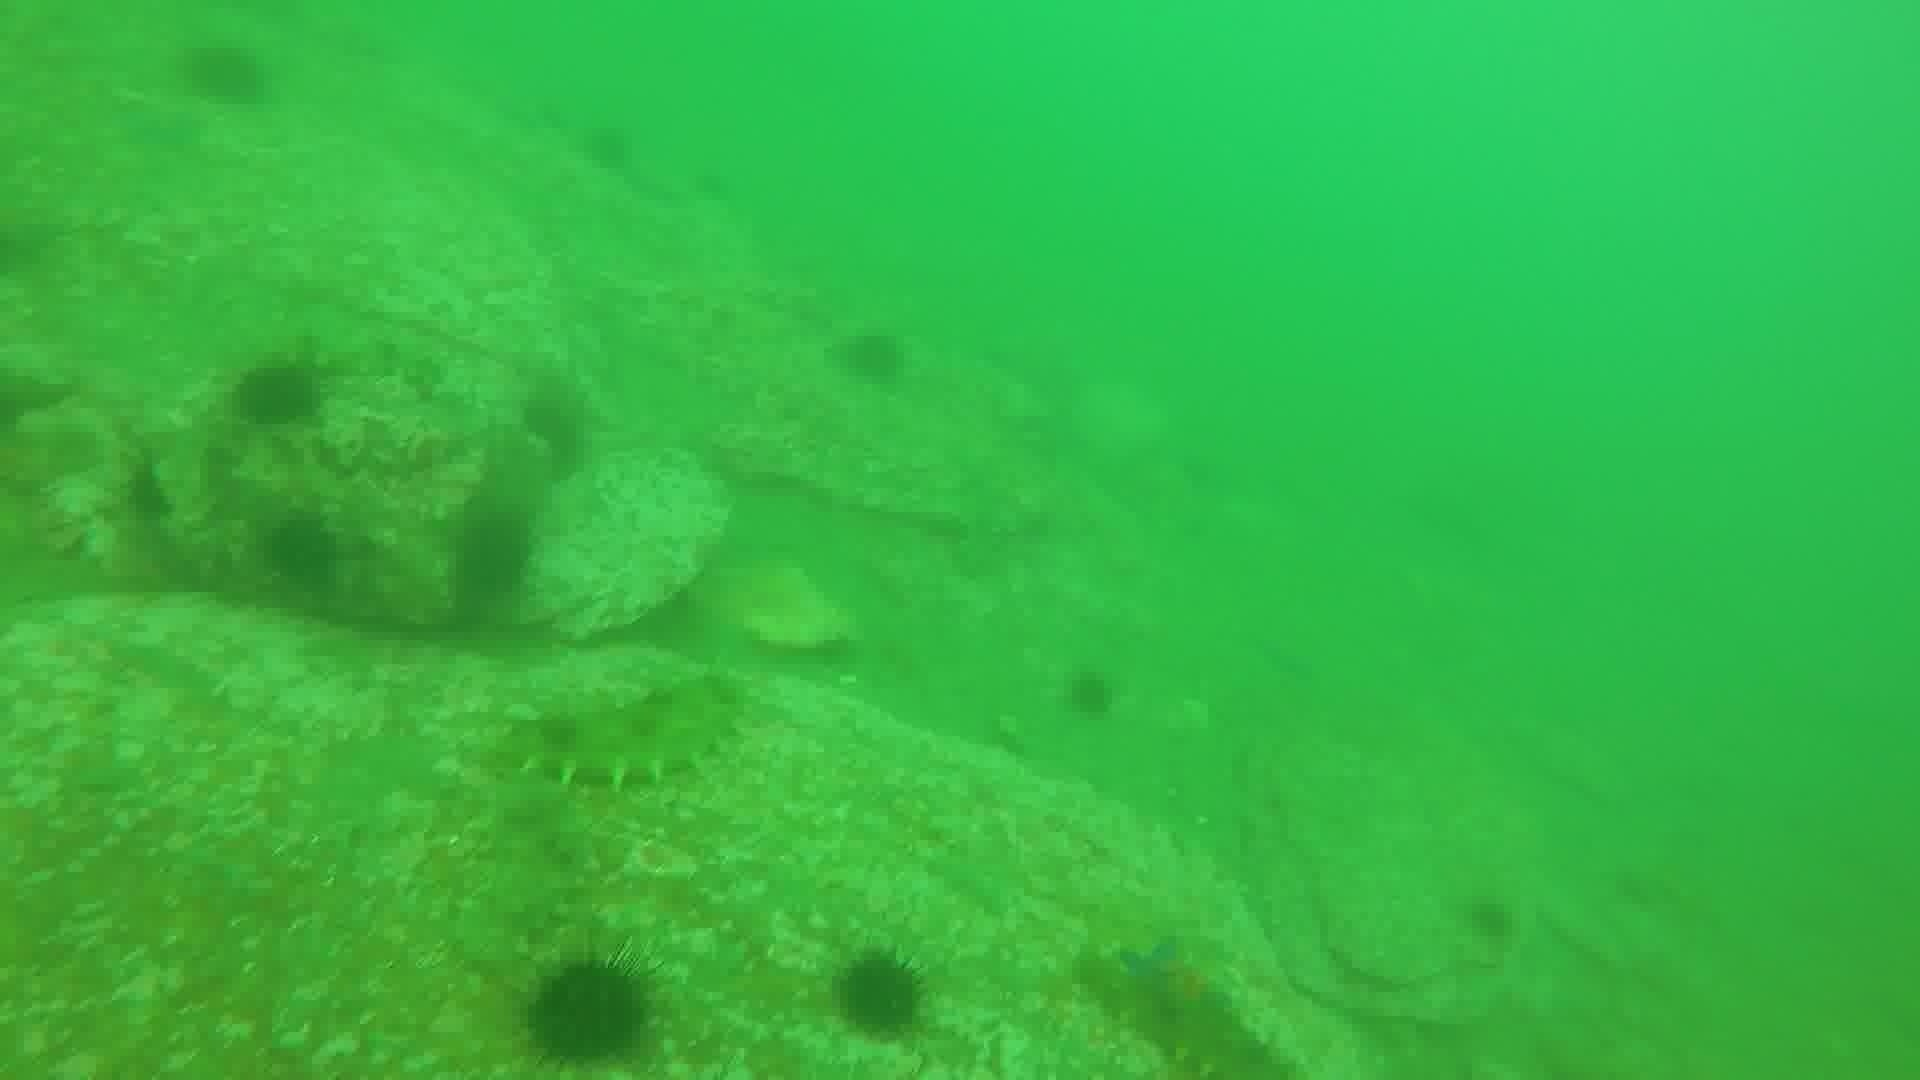echinus: (517, 949, 659, 1069), (828, 945, 932, 1044), (447, 504, 541, 604), (229, 355, 327, 433), (257, 508, 345, 593), (513, 382, 593, 469), (175, 37, 272, 109), (835, 324, 911, 389), (1458, 891, 1523, 949), (1060, 665, 1122, 723), (576, 119, 638, 175)
holothurian: (488, 671, 752, 795), (1077, 939, 1291, 1075), (458, 766, 589, 973)
starfish: (1077, 936, 1290, 1076), (111, 90, 215, 158)
